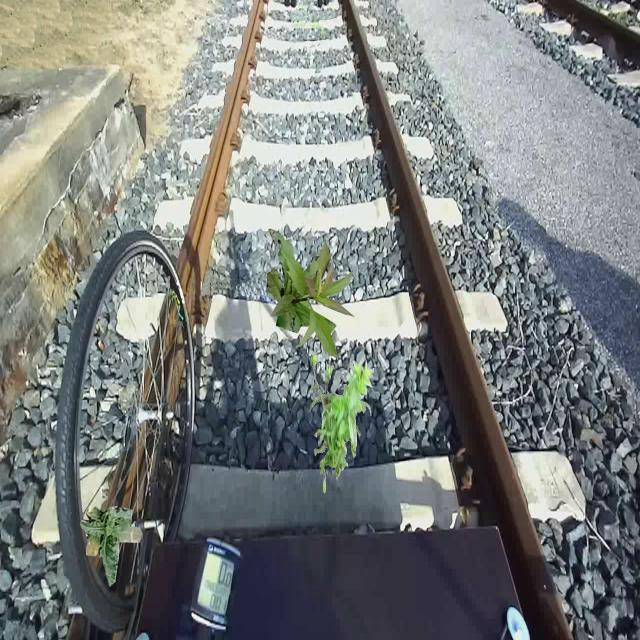Plant: (267, 229, 356, 359), (310, 350, 374, 493), (80, 506, 144, 589)
